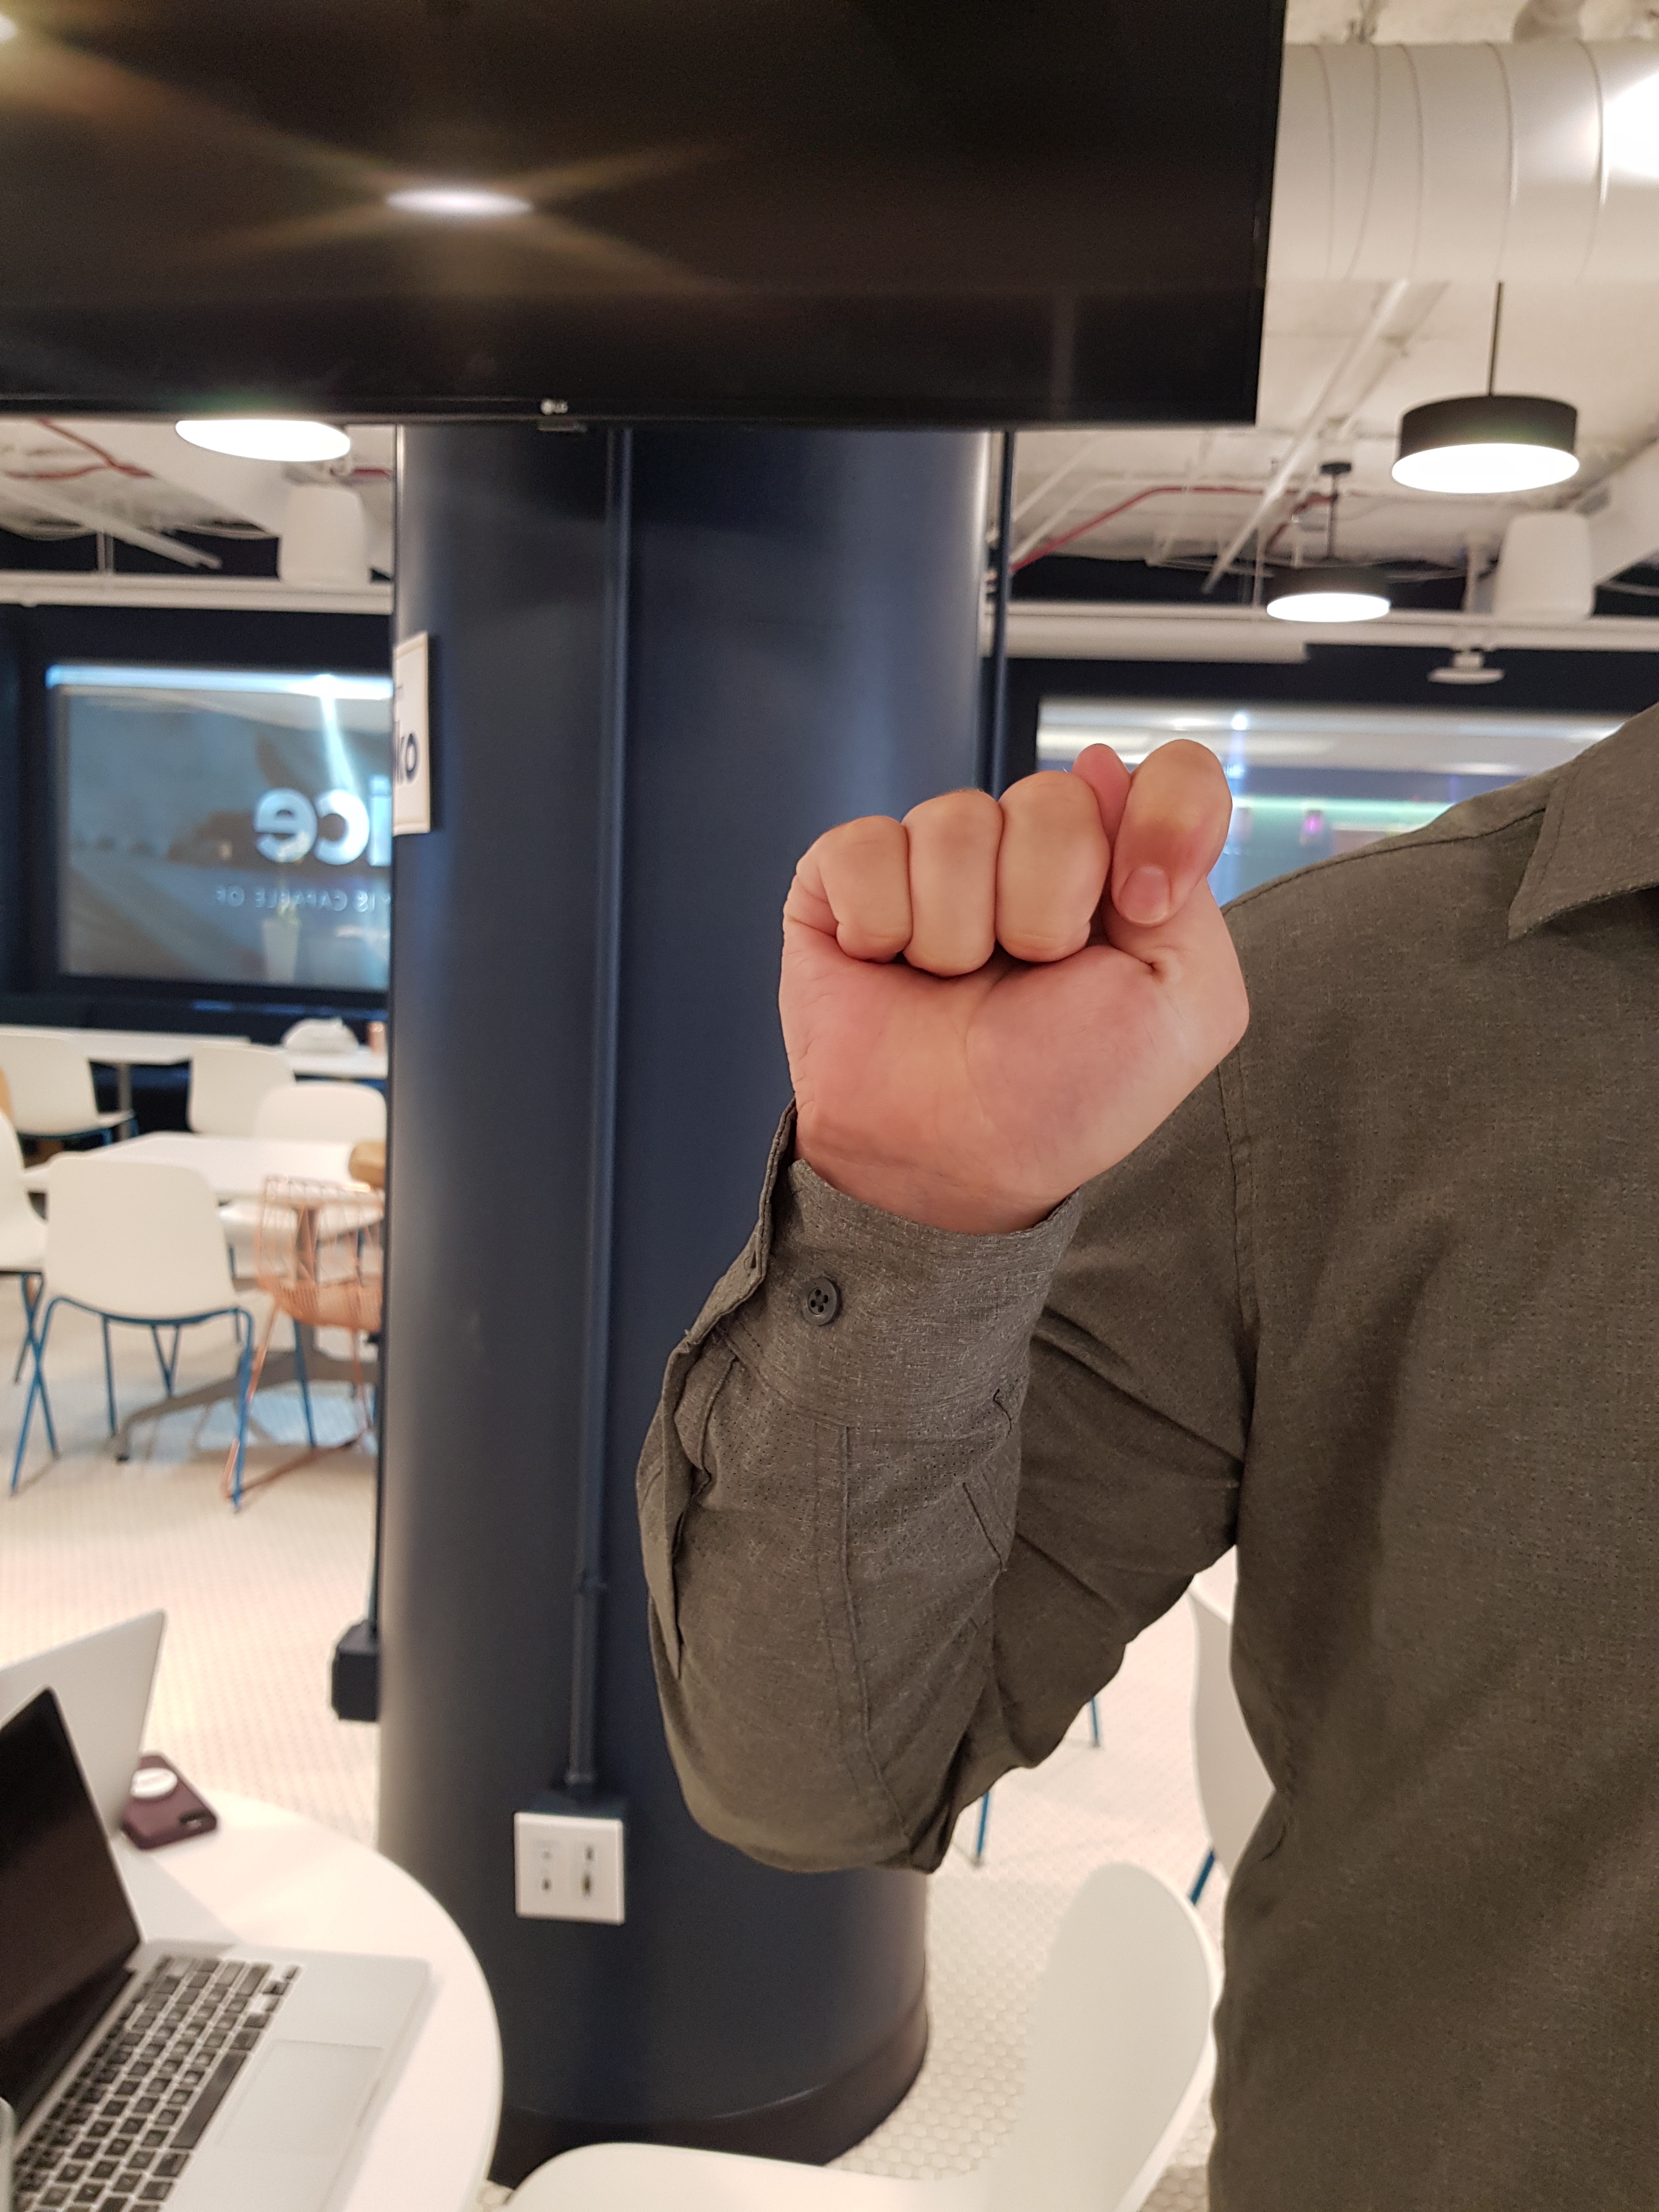t: (735, 688, 1293, 1221)
